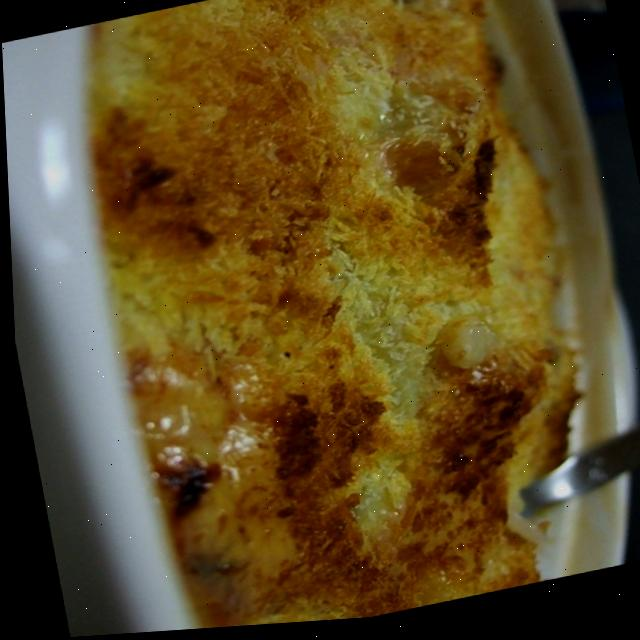米饭主食: (9, 0, 640, 640)
